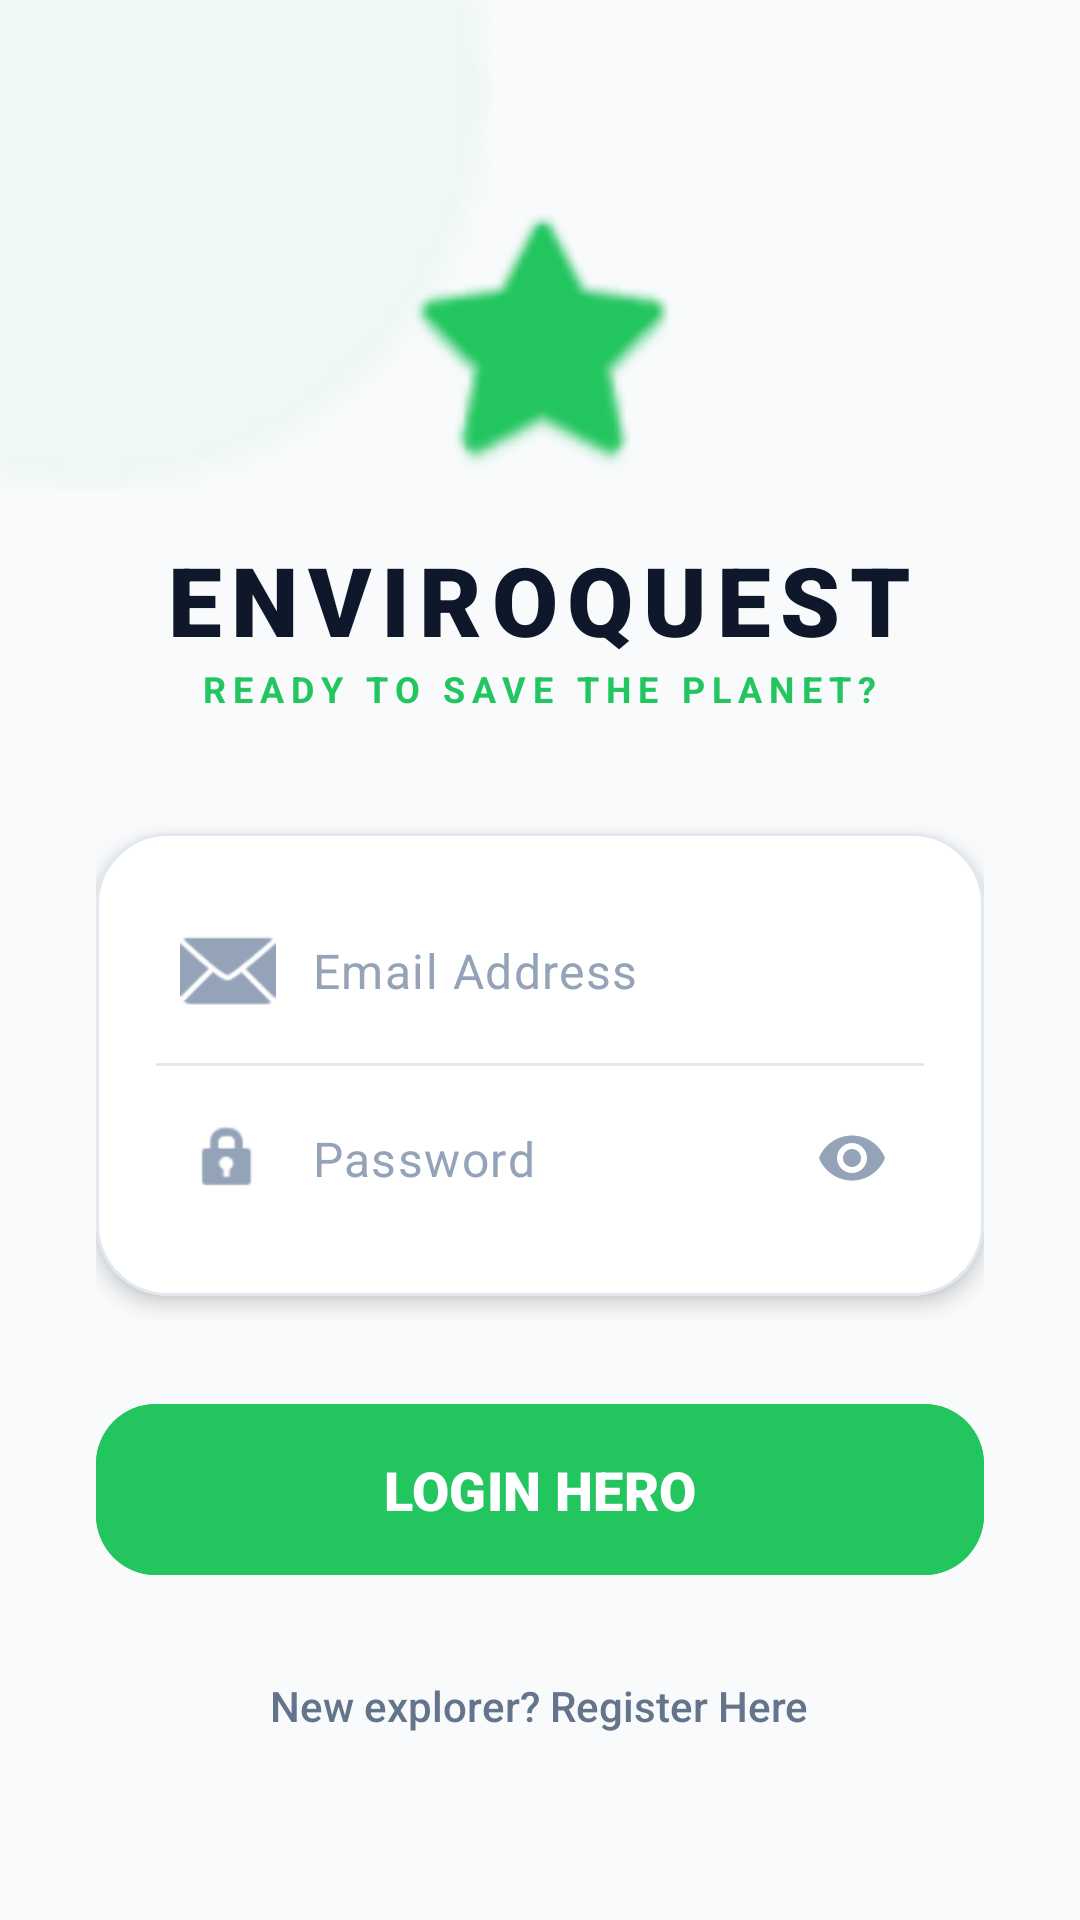

Where icons sit on this 1080*1920 app screen, as (x1, y1, x2, y2):
star on: (417, 218, 668, 461)
